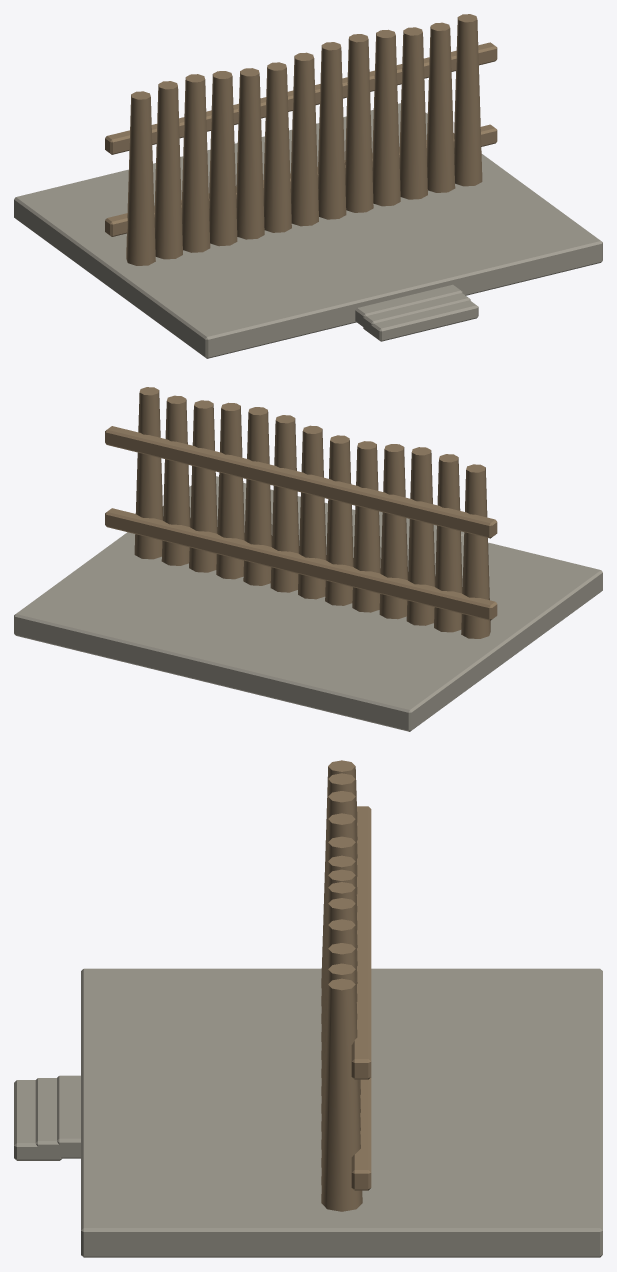
File: bld_palissade_a01.glb
3 views of the same model, one above another, from view 1: azimuth 30°, elevation 25°; view 2: azimuth 150°, elevation 25°; view 3: azimuth 270°, elevation 25° (orthographic). The views are drawn at different scales.
Visible parts, largest first — view 1: bld_palissade_a01; view 2: bld_palissade_a01; view 3: bld_palissade_a01.
Part boxes in pixels (x1,y1,x2,y2): bld_palissade_a01: [14, 14, 602, 358]; bld_palissade_a01: [14, 387, 602, 731]; bld_palissade_a01: [14, 760, 602, 1257].
Size of the model in its own units: 3.8 by 1.75 by 3.61.
